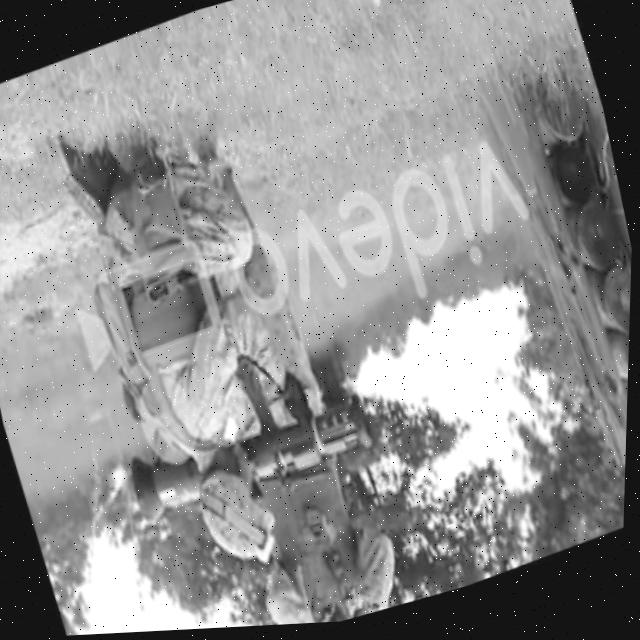rocket: (122, 372, 385, 534)
